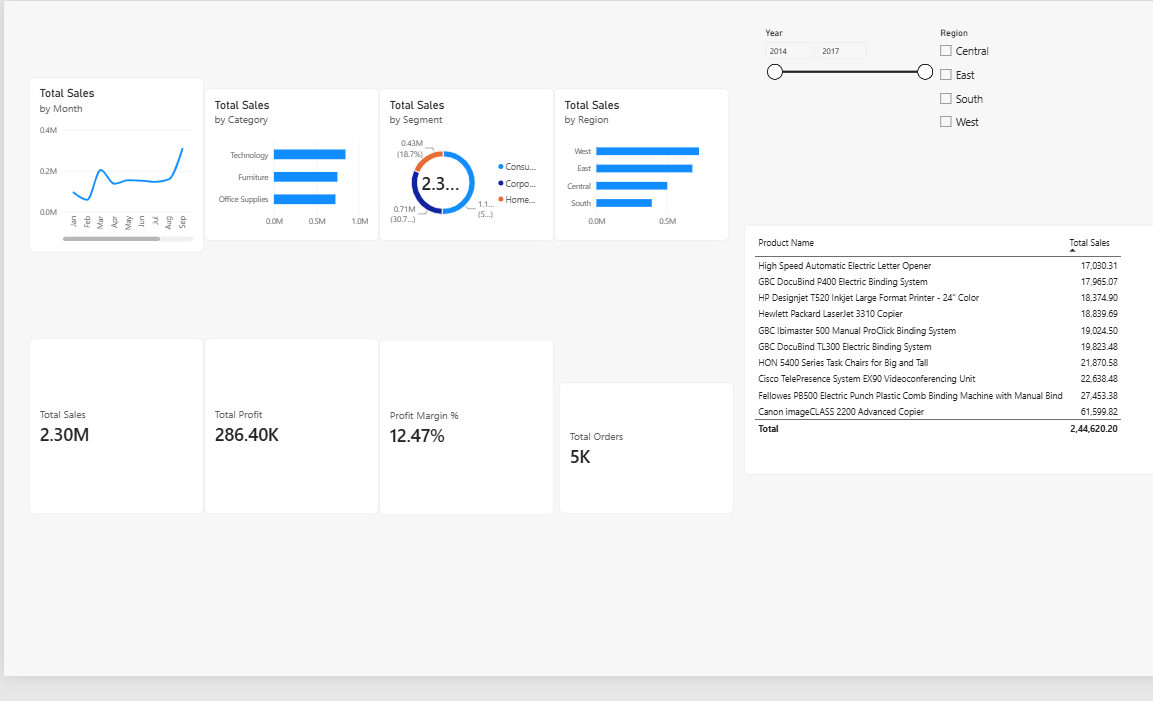

This screenshot's page, from the dashboard's own definition file:
{"tool":"powerbi","page":{"name":"Business Performance Dashboard","canvas":[1920,1080],"ordinal":0},"visuals":[{"type":"cardVisual","fields":{"Data":["Sample - Superstore.Total Sales"]},"box":[40,540,280,280],"z":0},{"type":"cardVisual","fields":{"Data":["Sample - Superstore.Total Profit"]},"box":[320,540,280,280],"z":1},{"type":"cardVisual","fields":{"Data":["Sample - Superstore.Profit Margin %"]},"box":[600,542,280,280],"z":2},{"type":"cardVisual","fields":{"Data":["Sample - Superstore.Total Orders"]},"box":[888,610,280,210],"z":3},{"type":"lineChart","fields":{"Category":["Calendar.Month"],"Y":["Sample - Superstore.Total Sales"]},"box":[40,122.5,280,280],"z":4},{"type":"clusteredBarChart","fields":{"Category":["Sample - Superstore.Category"],"Y":["Sample - Superstore.Total Sales"]},"box":[320,140,280,243],"z":5},{"type":"donutChart","fields":{"Category":["Sample - Superstore.Segment"],"Y":["Sample - Superstore.Total Sales"]},"box":[600,140,280,243],"z":6},{"type":"clusteredBarChart","fields":{"Category":["Sample - Superstore.Region"],"Y":["Sample - Superstore.Total Sales"]},"box":[880,140,280,243],"z":7},{"type":"tableEx","fields":{"Values":["Sample - Superstore.Product Name","Sample - Superstore.Total Sales"]},"box":[1184,358,686,400],"z":8},{"type":"slicer","fields":{"Values":["Sample - Superstore.Region"]},"box":[1490,42,280,184],"z":9},{"type":"slicer","fields":{"Values":["Calendar.Year"]},"box":[1210,42,280,157],"z":10}]}

Visuals, with their boxes on the page's 1920x1080 design canvas (x1, y1, x2, y2). These are canvas units, not pixel positions in the 1153x701 screenshot, which may show the page scaled, cropped or inside an application window:
cardVisual - Sample - Superstore.Total Sales: 40:540:320:820
cardVisual - Sample - Superstore.Total Profit: 320:540:600:820
cardVisual - Sample - Superstore.Profit Margin %: 600:542:880:822
cardVisual - Sample - Superstore.Total Orders: 888:610:1168:820
lineChart - Calendar.Month x Sample - Superstore.Total Sales: 40:122:320:402
clusteredBarChart - Sample - Superstore.Category x Sample - Superstore.Total Sales: 320:140:600:383
donutChart - Sample - Superstore.Segment x Sample - Superstore.Total Sales: 600:140:880:383
clusteredBarChart - Sample - Superstore.Region x Sample - Superstore.Total Sales: 880:140:1160:383
tableEx - Sample - Superstore.Product Name x Sample - Superstore.Total Sales: 1184:358:1870:758
slicer - Sample - Superstore.Region: 1490:42:1770:226
slicer - Calendar.Year: 1210:42:1490:199
